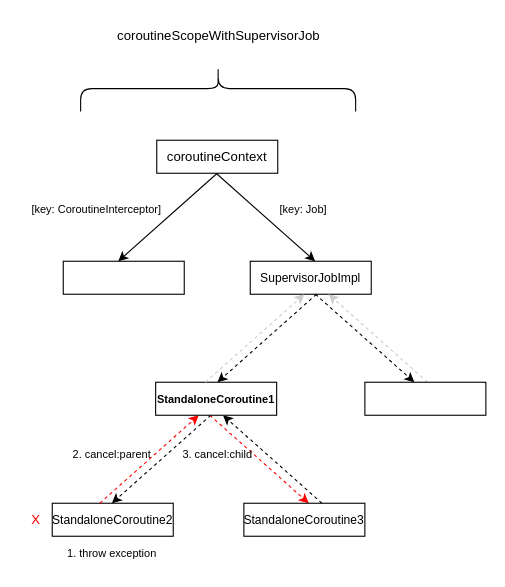
Some shapes in this 505 by 587 pixel diagram are drawn without their labels. Here are the shapes that lost their labels. From the top down, the box of each, then its label:
(62, 260, 184, 294): Dispatchers.Default
(364, 381, 486, 415): StandaloneCoroutine4
